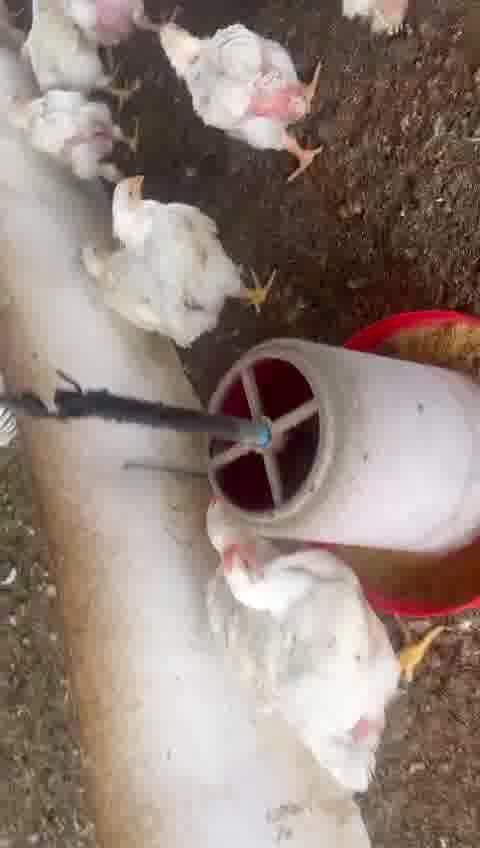AbNormal: (53, 226, 142, 344)
Normal: (214, 547, 394, 825), (156, 15, 337, 176), (117, 171, 278, 326), (0, 74, 137, 180)
